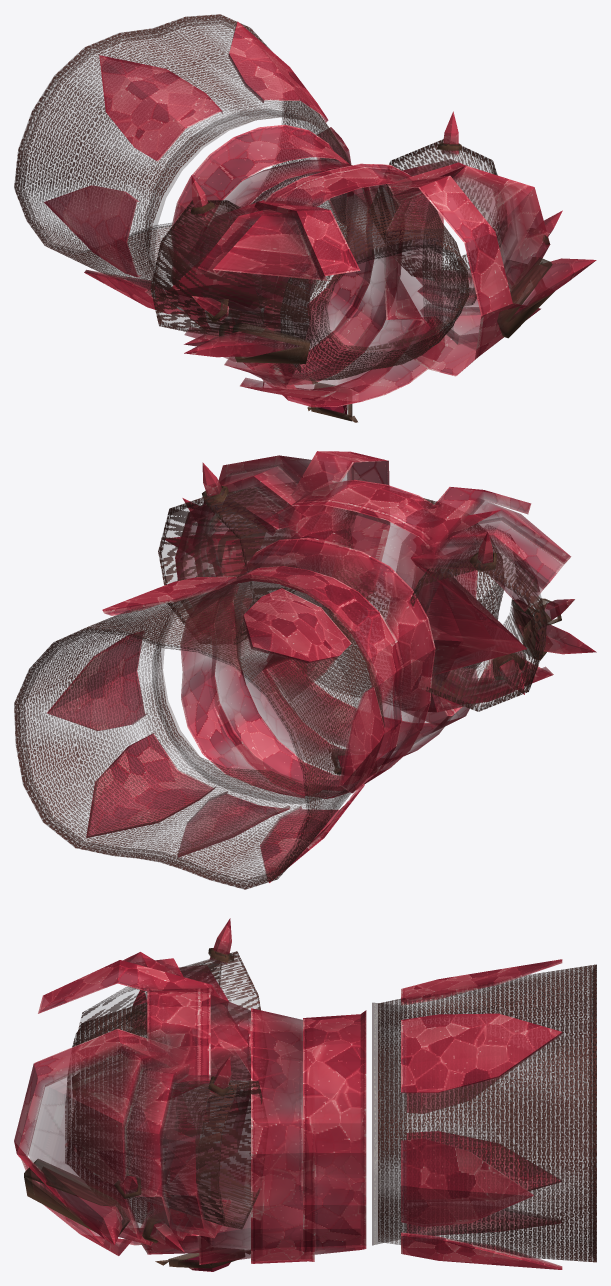
File: cuirasse_rubis.glb
The picture shows the model from 3 angles, top to bottom: view 1: azimuth 30°, elevation 25°; view 2: azimuth 150°, elevation 25°; view 3: azimuth 270°, elevation 25°; orthographic projection. The views are drawn at different scales.
Parts seen in each view (by area): view 1: cuirasse_rubis.001; view 2: cuirasse_rubis.001; view 3: cuirasse_rubis.001.
Part boxes in pixels (left/top/right/bottom): cuirasse_rubis.001: left=14, top=14, right=596, bottom=422; cuirasse_rubis.001: left=14, top=451, right=596, bottom=889; cuirasse_rubis.001: left=14, top=918, right=596, bottom=1271.
Bounding box in the file's own units: 0.8775 × 0.543 × 1.01.
Materials: 5 (5 with a texture image).
